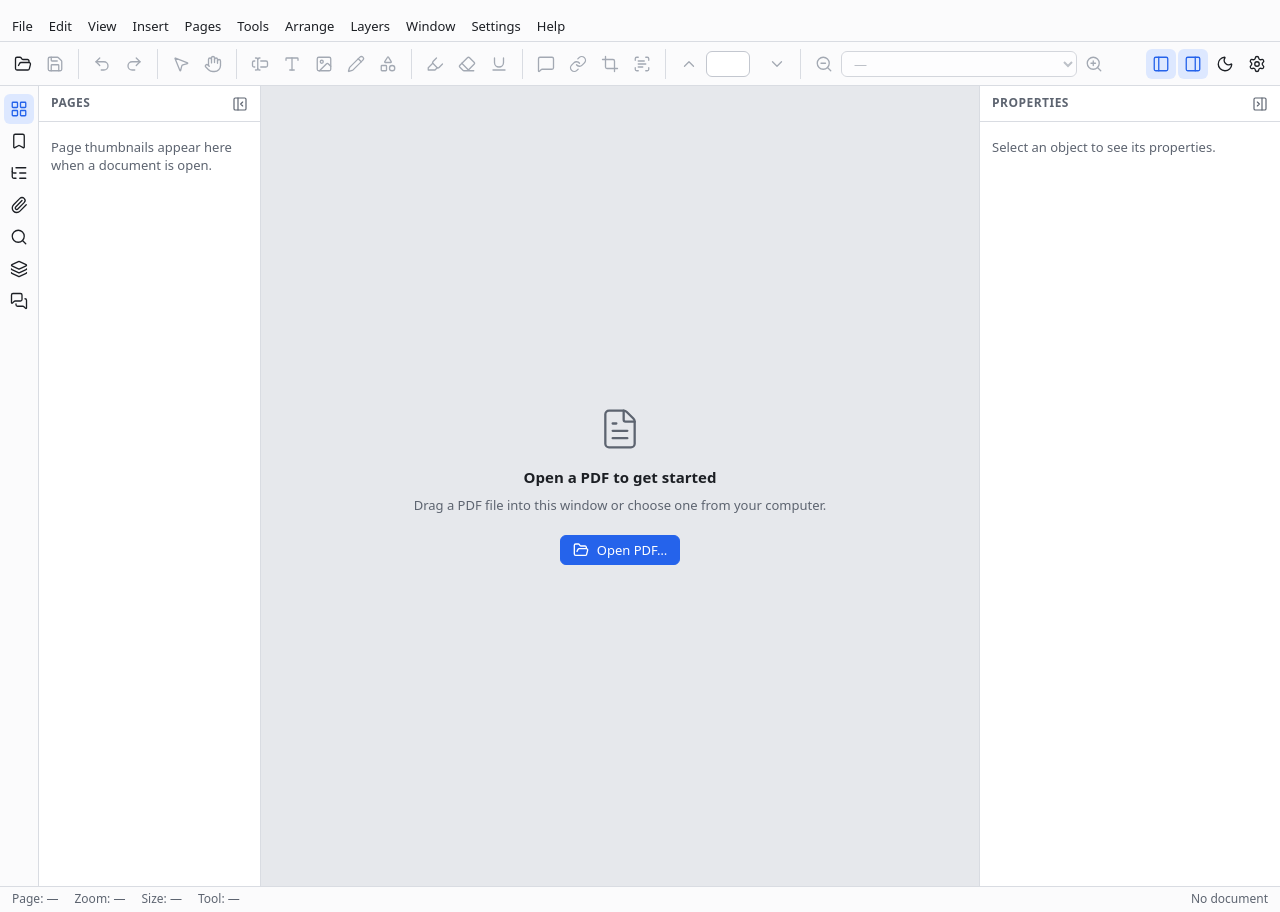
application shell › opens collapsed side panels from the strips left at the window edges
Later steps or results of the test are not shown.
# Collapse both panels with their own buttons.
Step 1. Click the 1st button named "Collapse panel" → x=240, y=104, box [228, 92, 252, 116]
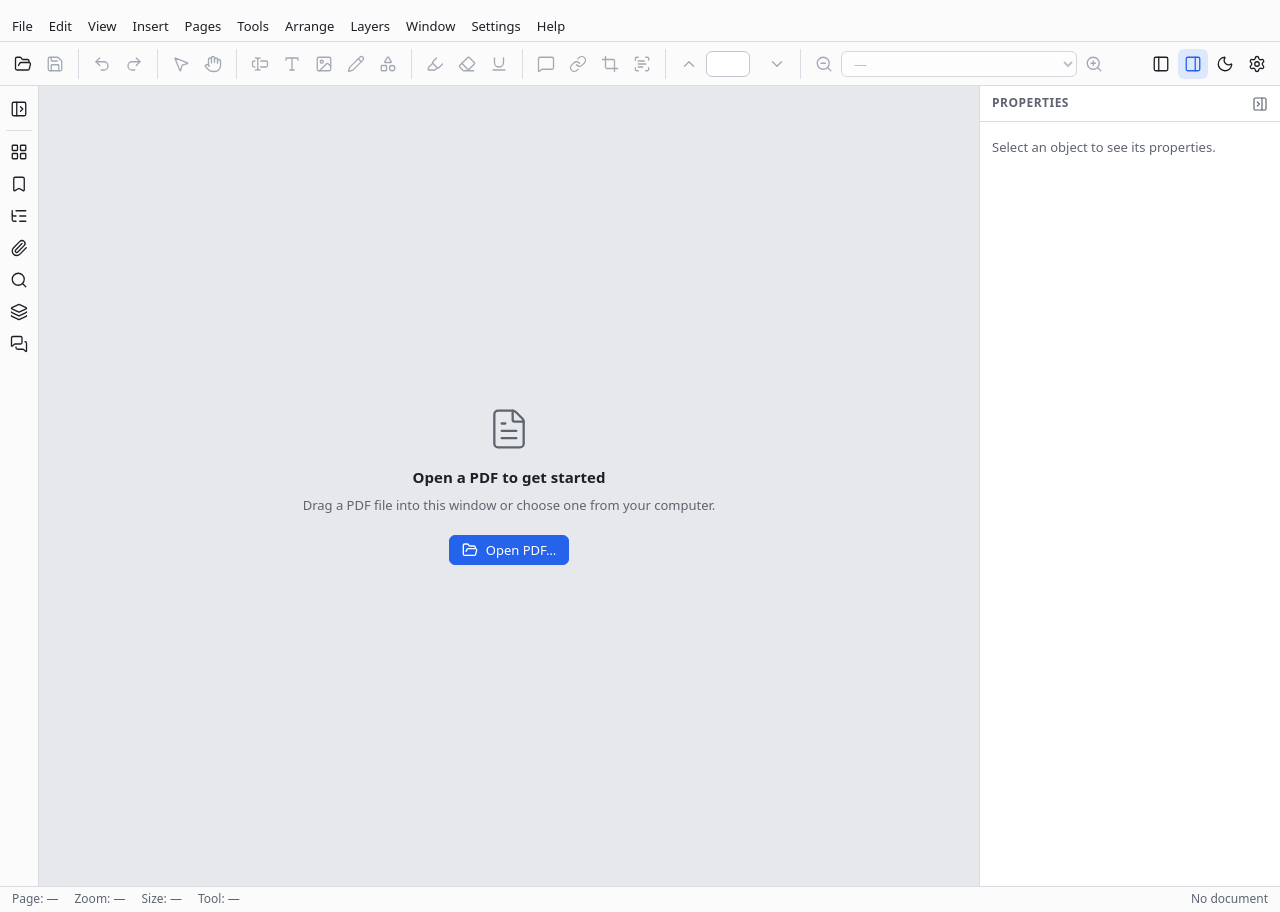
Step 2. Click the button named "Collapse panel" → x=1260, y=104, box [1248, 92, 1272, 116]
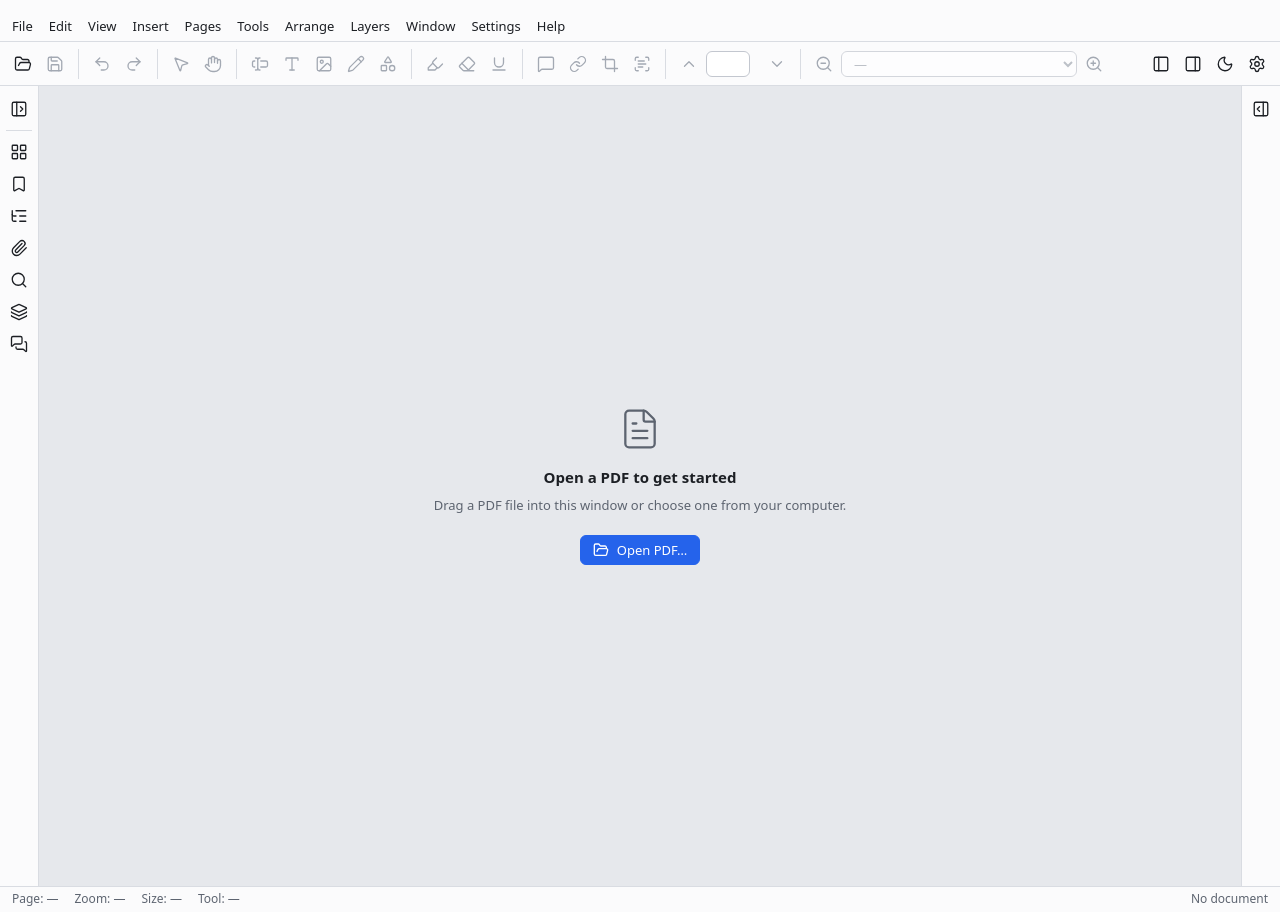
# Each leaves a strip in its place with a button that brings it back.
Step 3. Click the button named "Show properties panel" → x=1261, y=109, box [1246, 94, 1276, 124]
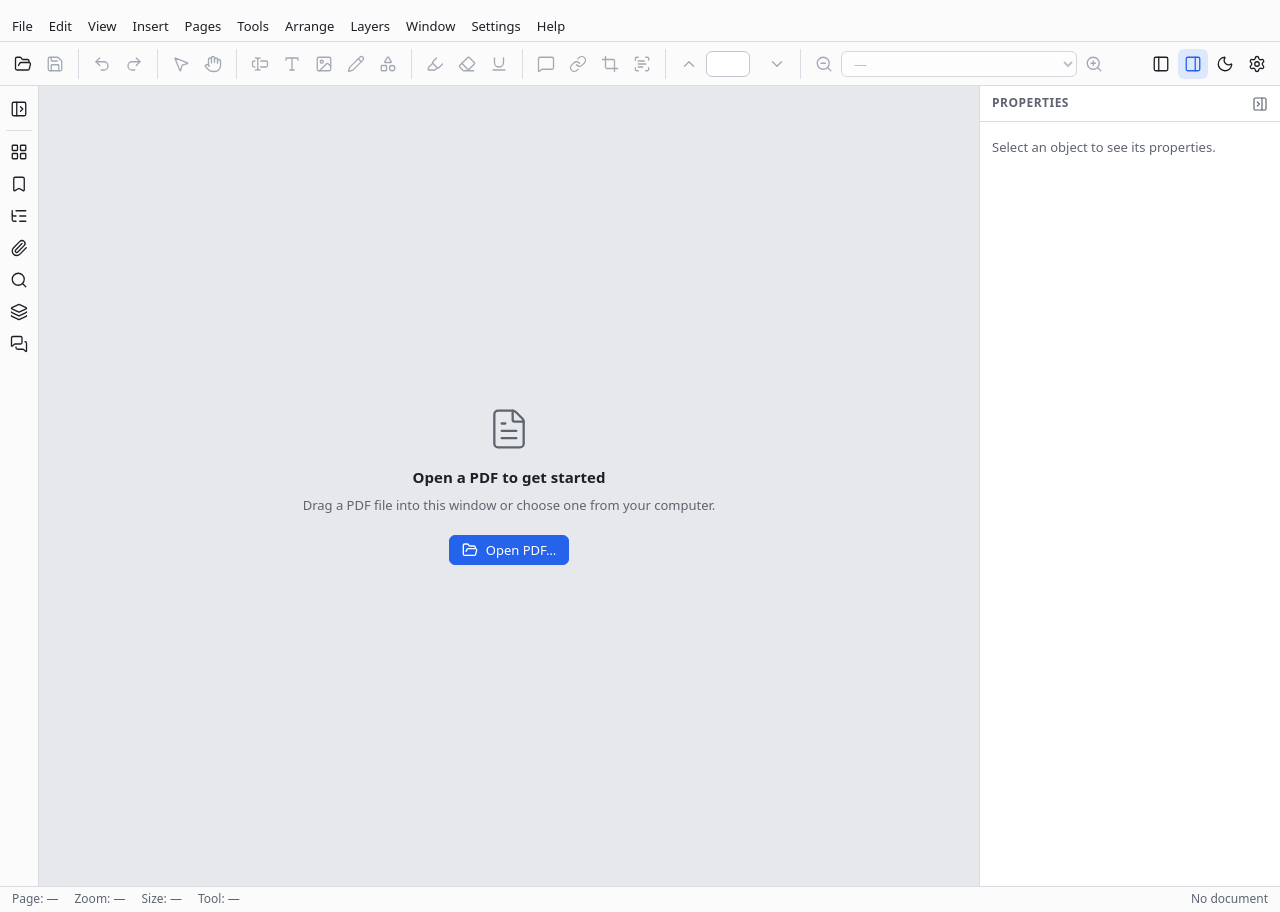
Check: the element named "Properties panel" is shown, box [980, 86, 1279, 886]
# A section icon on the left strip opens the panel straight on that section.
Step 4. Click the button named "Layers" → x=19, y=312, box [4, 297, 34, 327]
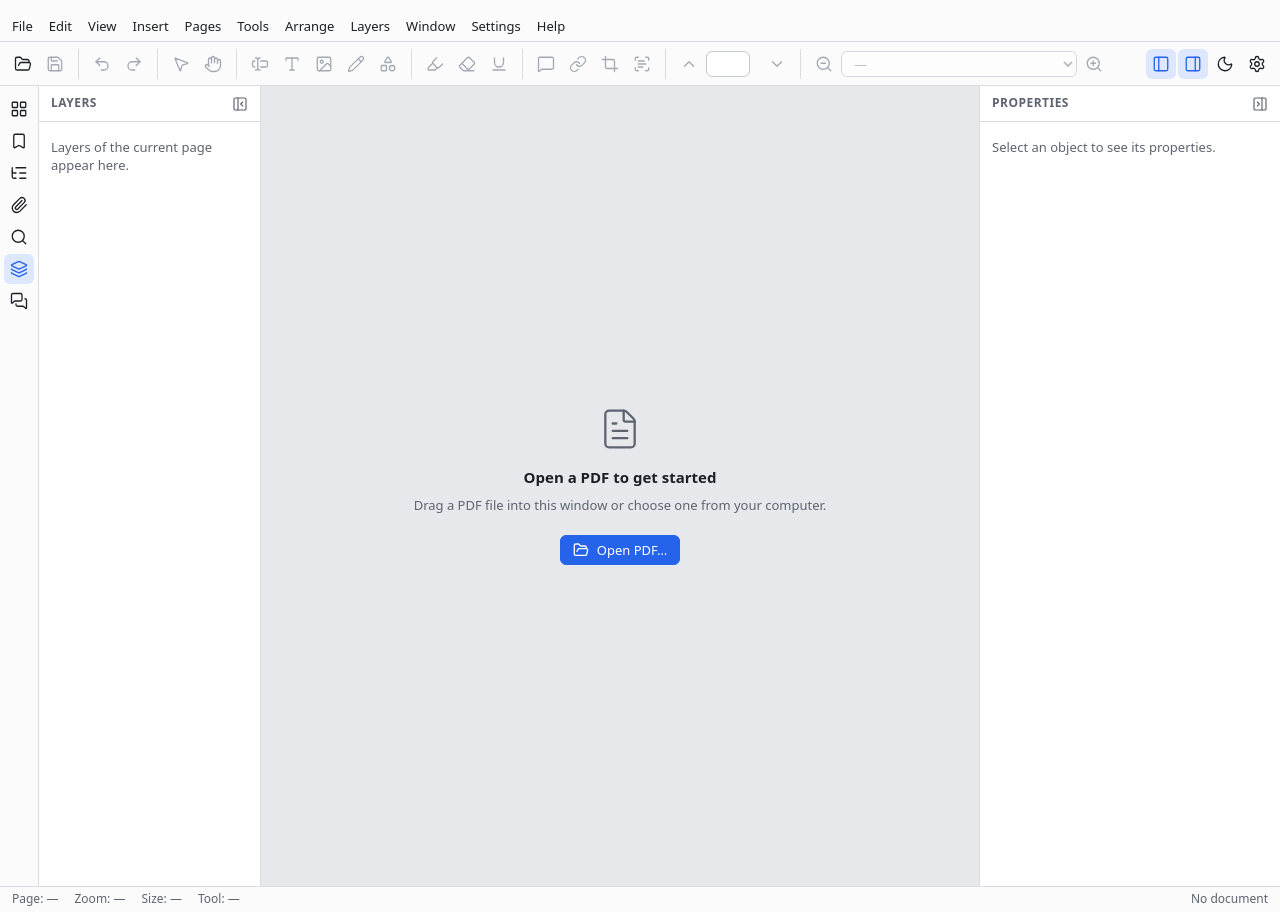
Check: the tab named "Layers" is selected, box [4, 254, 34, 284]
